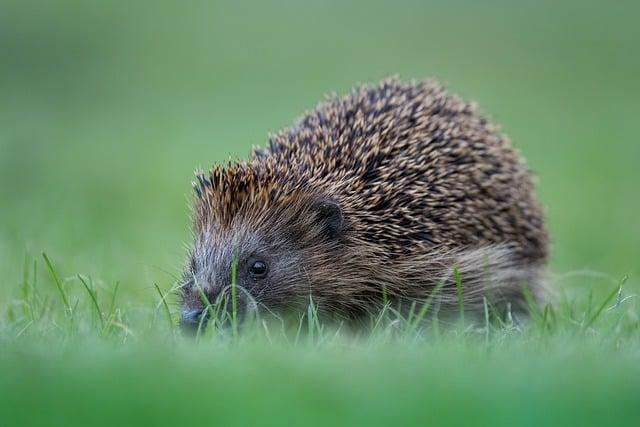Non_Gorille: (140, 17, 557, 396)
